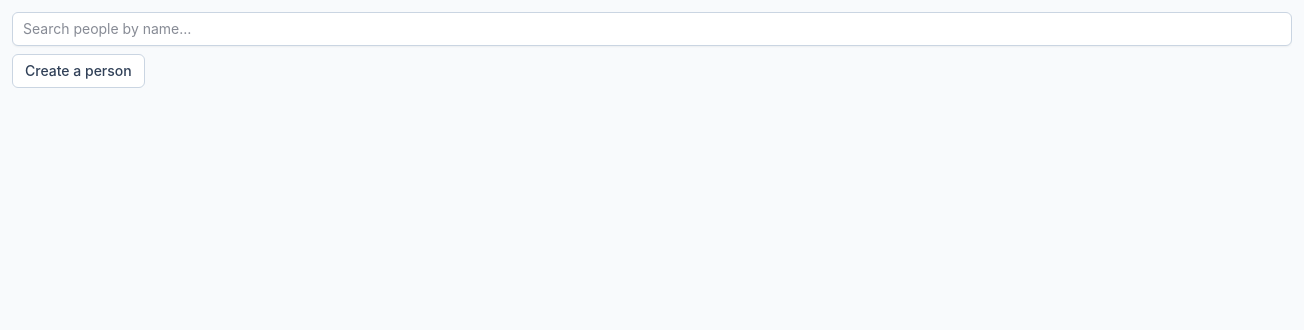
Scenario: PersonPicker offers to create the person when nobody matches, and uses the new record
The width and height of the screenshot is (1304, 330).
Type "Zed Nobody" into the field named "Person" at (652, 29), box [12, 12, 1292, 46]
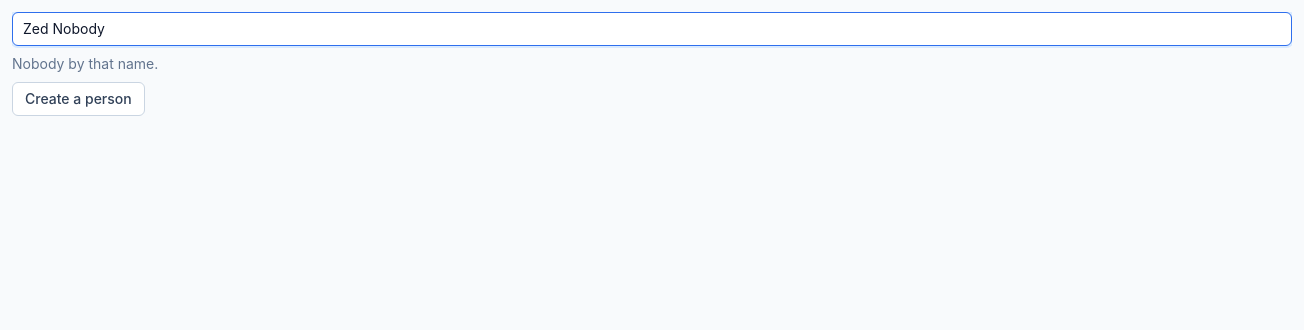
Now the text "Nobody by that name." is shown, box [12, 55, 158, 72]
Click the button "Create a person" at (78, 99), box [12, 82, 145, 116]
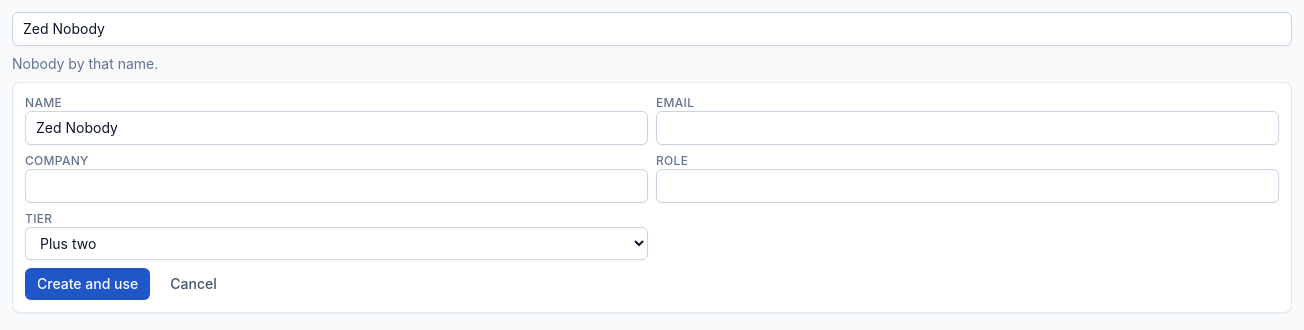
Now the field labelled "Name" holds "Zed Nobody", box [25, 111, 648, 145]
Type "zed@x.io" into the field labelled "Email" at (968, 128), box [656, 111, 1279, 145]
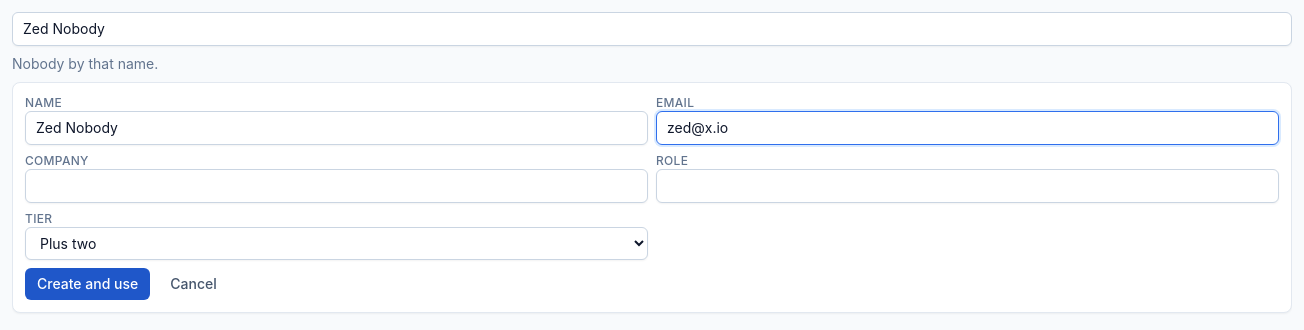
Click the button "Create and use" at (88, 284), box [25, 268, 150, 300]
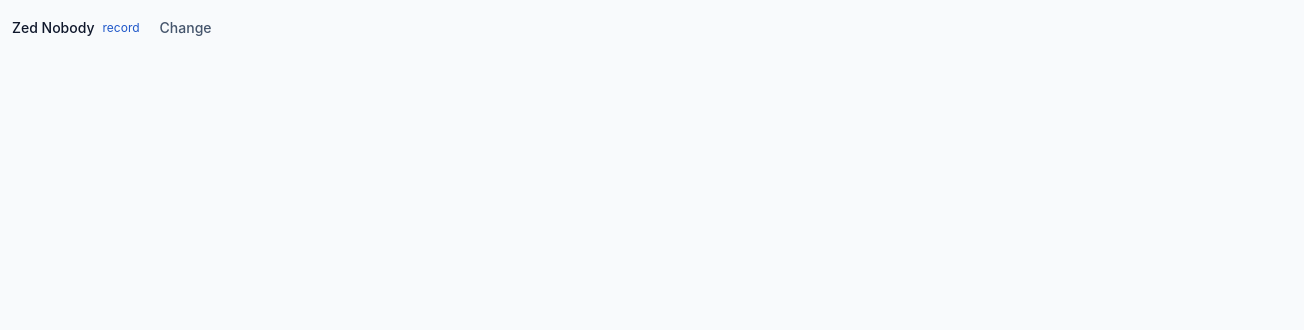
Now the element with test id "picked-person" shows "Zed Nobody", box [12, 19, 94, 36]
